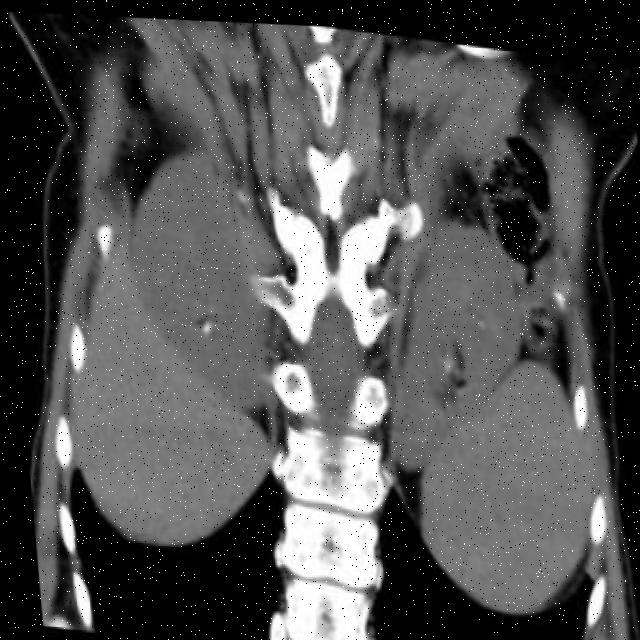Tas_Var: (190, 307, 213, 338), (431, 344, 457, 367), (445, 375, 466, 391), (471, 307, 485, 324)
